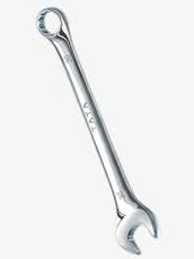Wrench: (28, 5, 164, 257)
